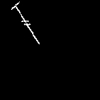treble_crochet: (12, 3, 38, 42)
